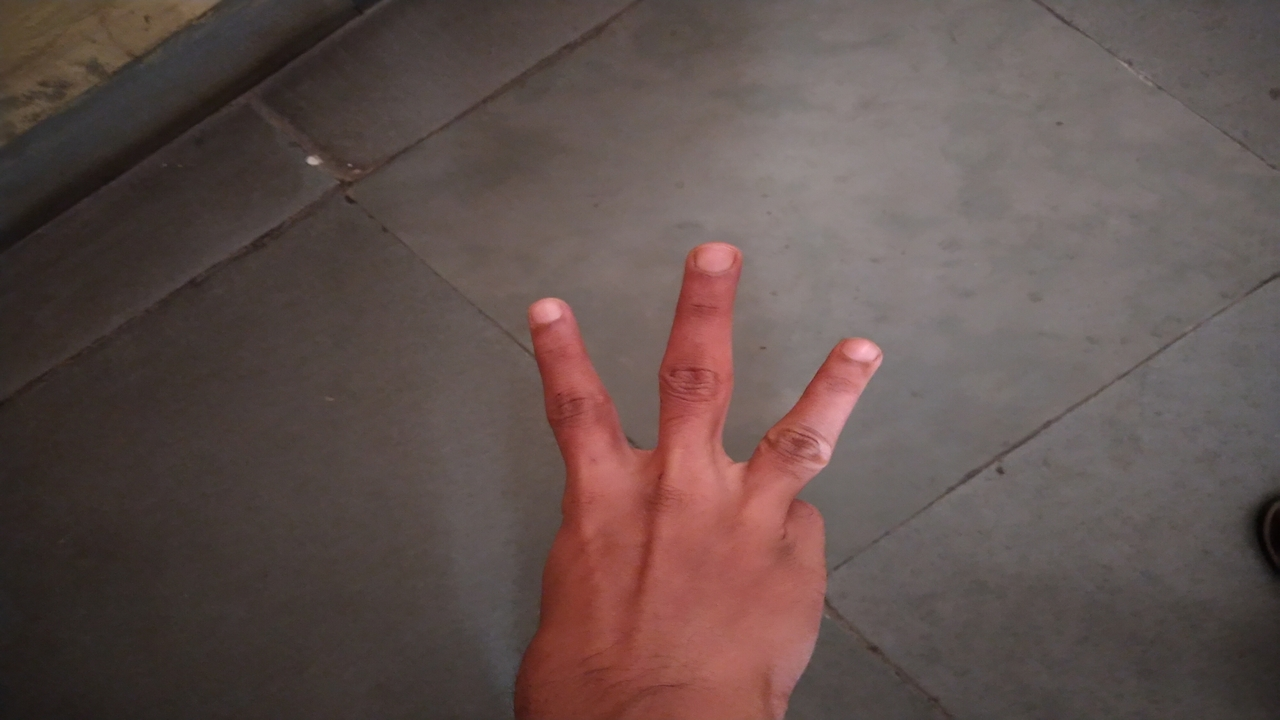fingertip: (674, 232, 750, 292), (522, 288, 584, 350), (826, 326, 892, 382)
